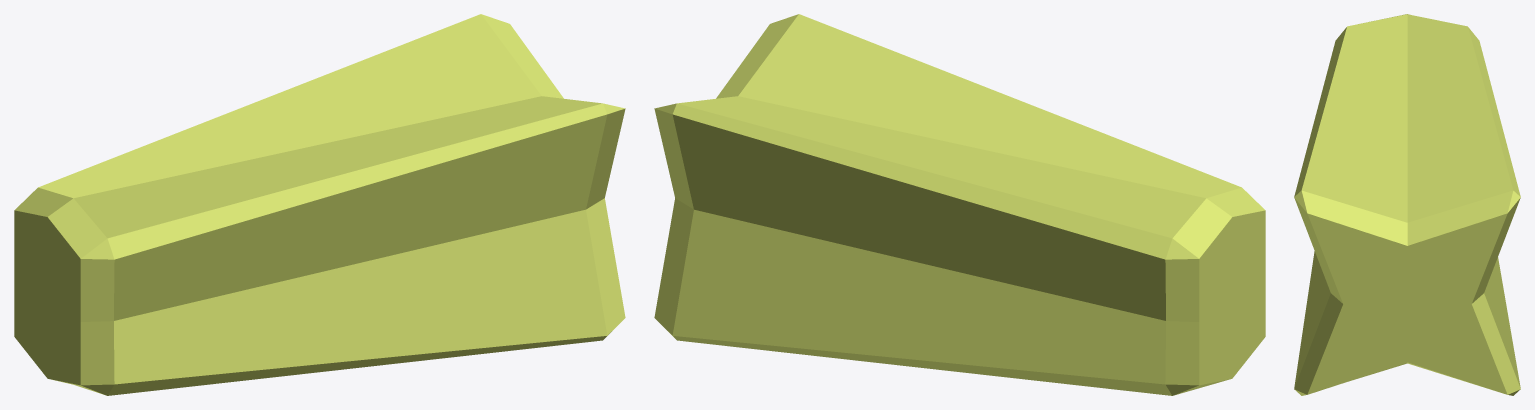
File: Bullet.fbx
3 views of the same model, side by side, from view 1: azimuth 30°, elevation 25°; view 2: azimuth 150°, elevation 25°; view 3: azimuth 270°, elevation 25° (orthographic). The views are drawn at different scales.
Visible parts, largest first — view 1: Cube; view 2: Cube; view 3: Cube.
Boxes of the visible parts, left/top/right/bottom form: Cube: left=14, top=14, right=625, bottom=395; Cube: left=654, top=14, right=1265, bottom=395; Cube: left=1294, top=14, right=1520, bottom=395.
Size of the model in its own units: 130 by 56.63 by 56.63.
